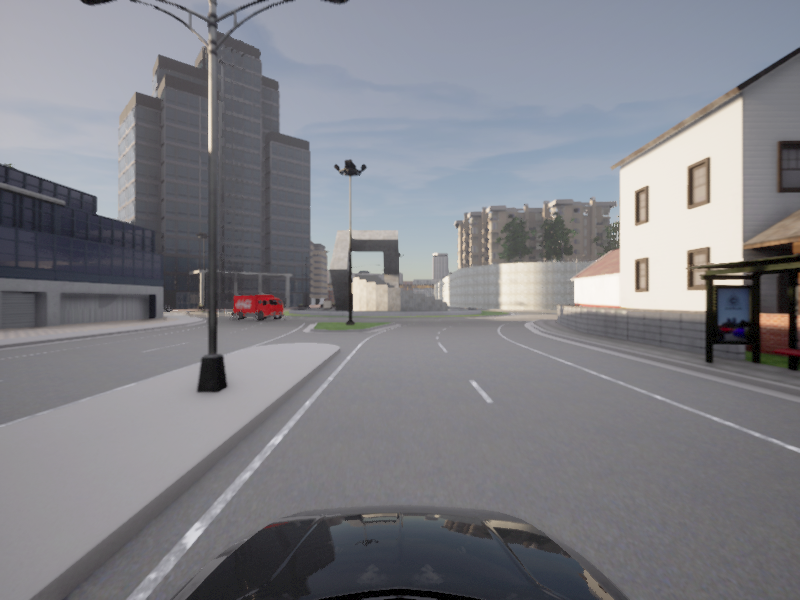vehicle: (230, 294, 288, 321)
